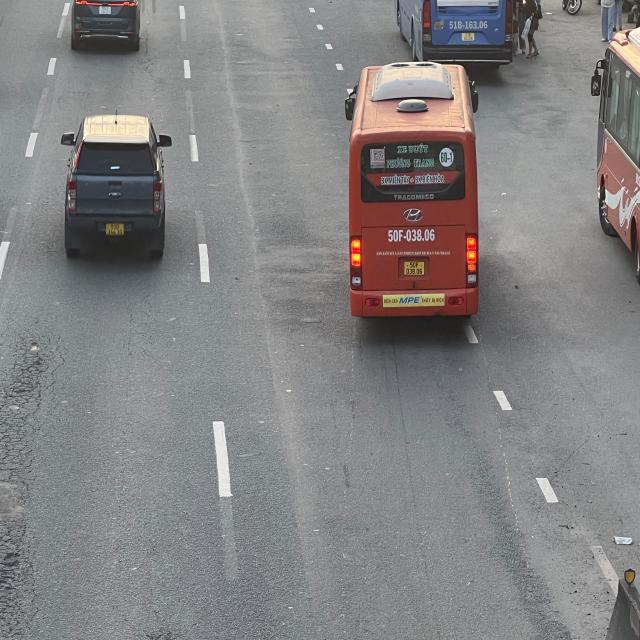car: (63, 117, 173, 261), (66, 0, 143, 50)
coach: (346, 60, 481, 318), (592, 34, 636, 280), (399, 0, 508, 64)
